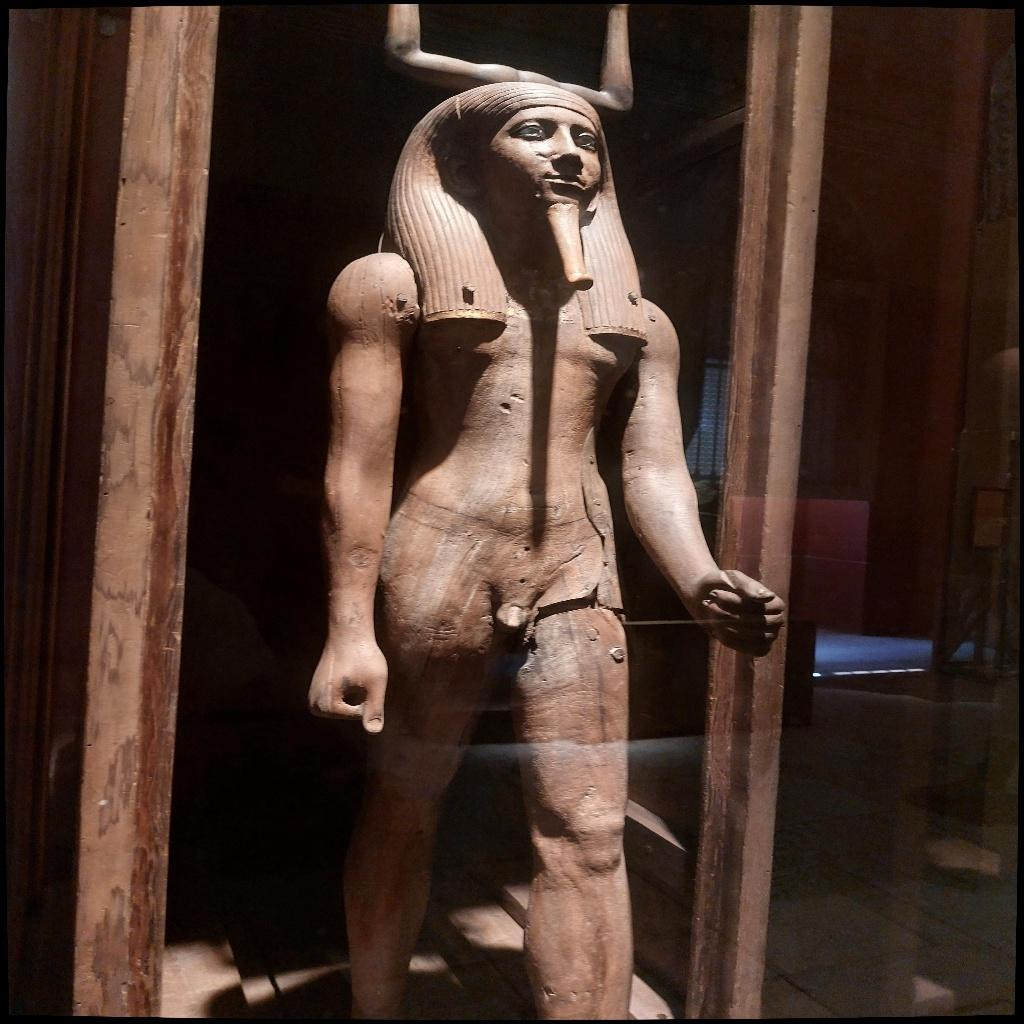Hor I: (300, 8, 790, 1014)
